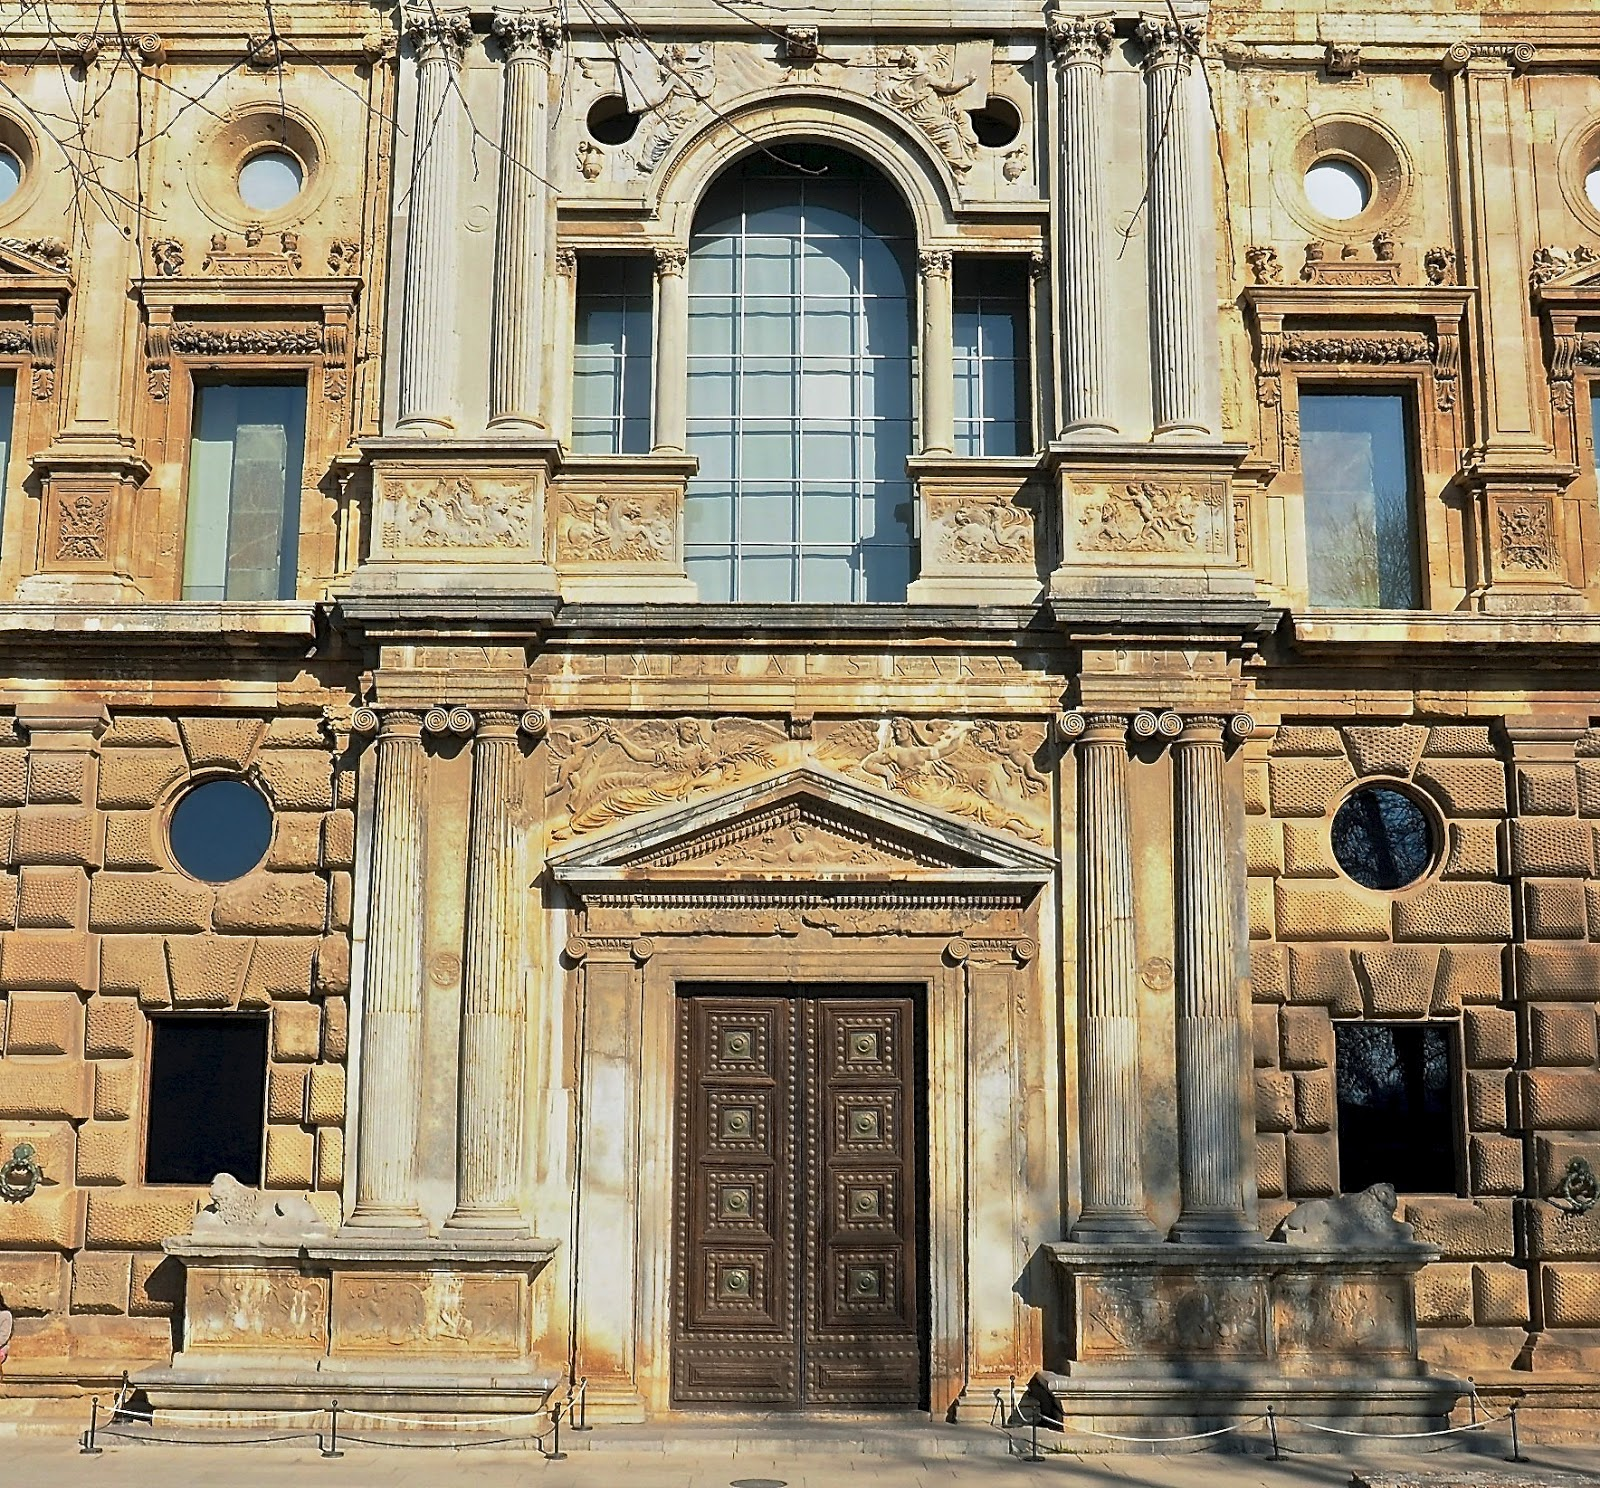fronton: (536, 758, 1069, 899)
ojo-de-buey: (1278, 105, 1420, 241), (1322, 769, 1457, 898), (150, 757, 283, 887), (196, 96, 324, 225)
serliana: (550, 74, 1050, 475)
vano-adintelado: (635, 922, 972, 1428), (1252, 303, 1467, 615), (151, 295, 322, 613)
